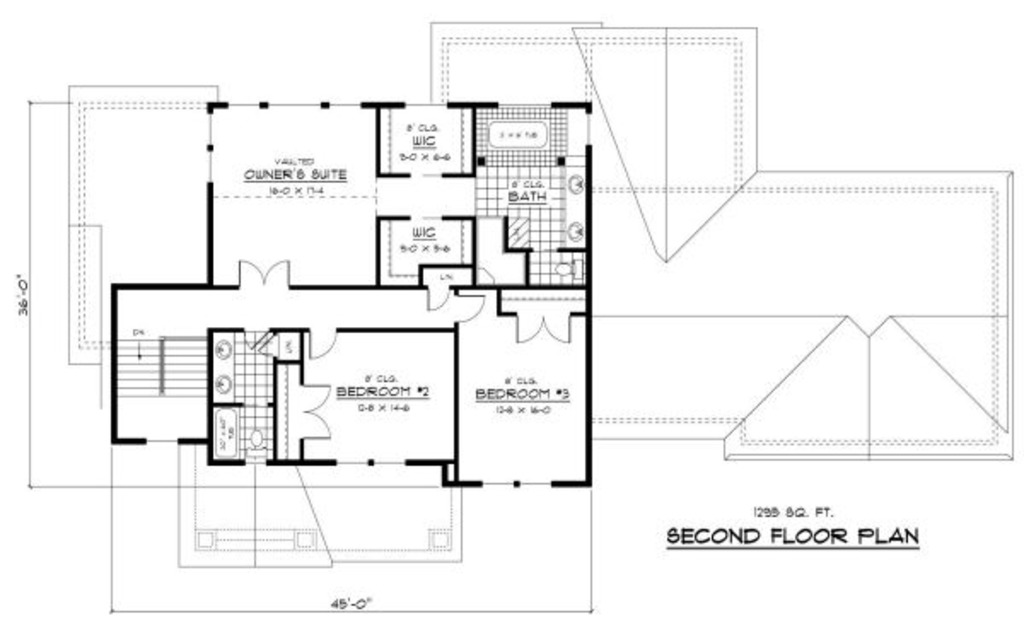door: (514, 311, 578, 348), (296, 380, 334, 440), (234, 259, 295, 293), (303, 327, 337, 361), (454, 291, 484, 327), (424, 286, 449, 311)
large_sink: (243, 428, 272, 461), (553, 258, 593, 281)
small_sink: (211, 330, 243, 401), (561, 159, 587, 243)
stairs: (111, 328, 212, 443)
tub: (491, 120, 553, 155)
window: (480, 478, 551, 491), (336, 457, 403, 470)
